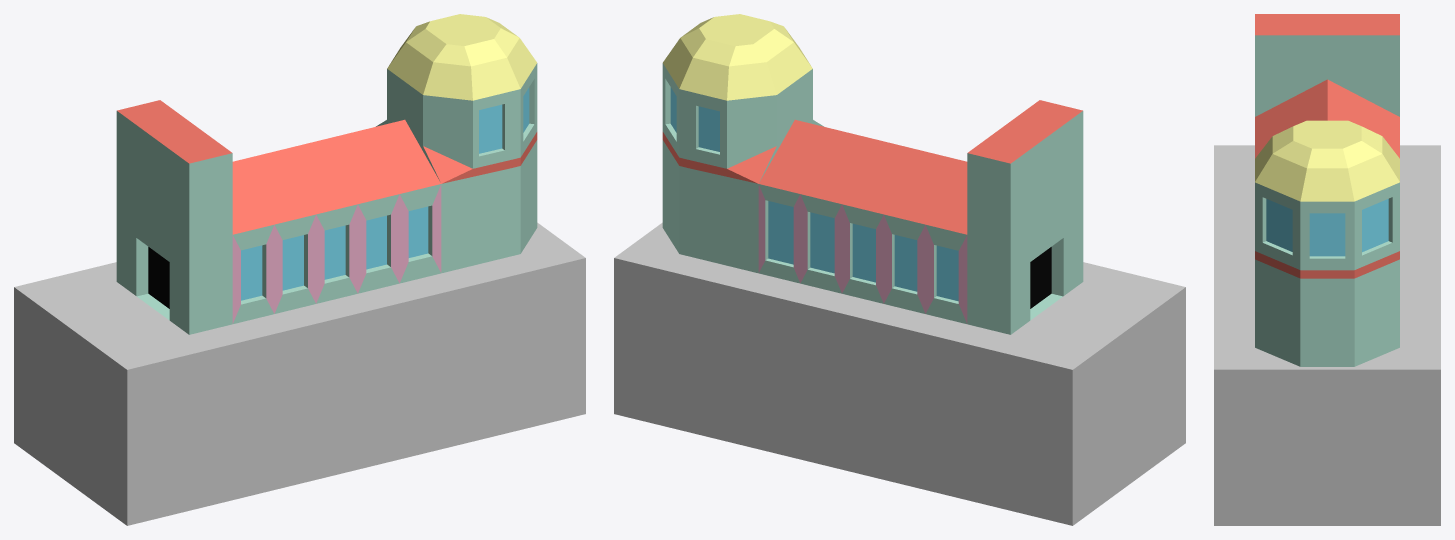
Rendered from Church.fbx.
The picture shows the model from 3 angles, left to right: view 1: azimuth 30°, elevation 25°; view 2: azimuth 150°, elevation 25°; view 3: azimuth 270°, elevation 25°; orthographic projection.
Visible parts, largest first — view 1: Church; view 2: Church; view 3: Church.
Boxes of the visible parts, bbox=[...] form: Church: bbox=[14, 14, 585, 525]; Church: bbox=[614, 14, 1185, 525]; Church: bbox=[1214, 14, 1440, 525].
Size of the model in its own units: 5989 by 4478 by 2558.
